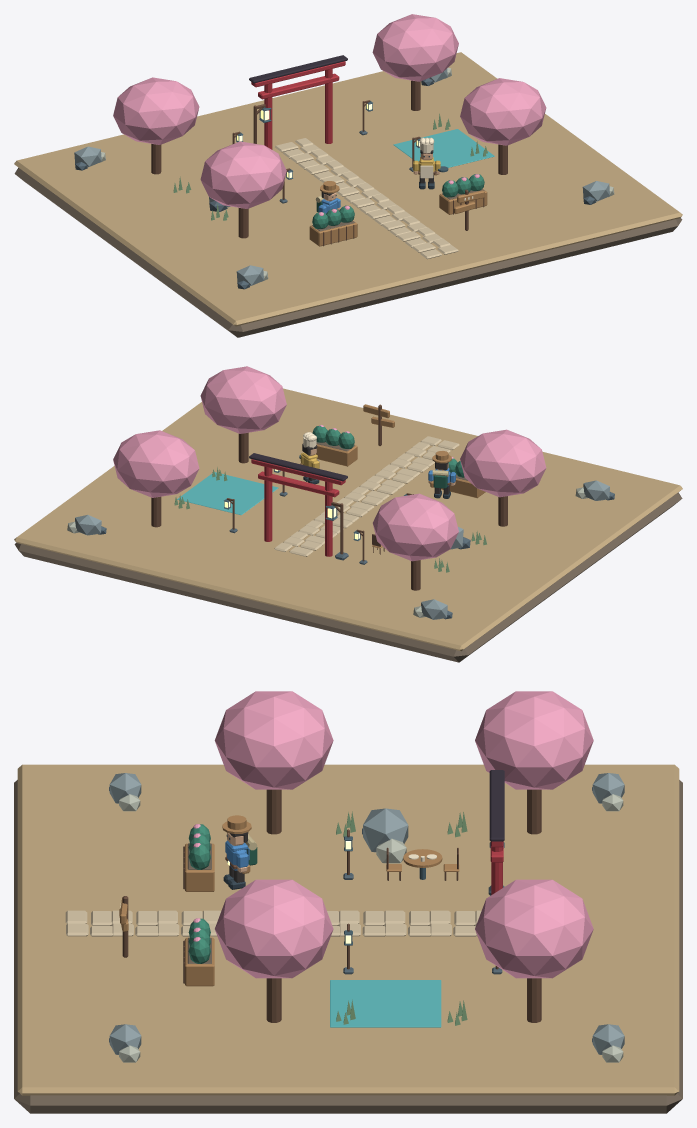
The model's file is world-zen.glb.
The picture shows the model from 3 angles, top to bottom: view 1: azimuth 30°, elevation 25°; view 2: azimuth 150°, elevation 25°; view 3: azimuth 270°, elevation 25°; orthographic projection. The views are drawn at different scales.
Parts seen in each view (by area): view 1: terrain-top, terrain-stratum, cherry-blossoms, cherry-blossoms.003, cherry-blossoms.002, cherry-blossoms.001, pond, planter-body.001, torii-cap.001, torii-beam.002, torii-post.003; view 2: terrain-top, terrain-stratum, cherry-blossoms.001, cherry-blossoms.003, cherry-blossoms, cherry-blossoms.002, pond, torii-cap.001, torii-beam.002, planter-body.002, torii-post.003, torii-post.002 (+4 smaller); view 3: terrain-top, terrain-stratum, cherry-blossoms.003, cherry-blossoms.002, cherry-blossoms, cherry-blossoms.001, pond, rock.003, torii-cap.001, planter-body.002, planter-body.001, rock.012 (+7 smaller).
Boxes of the visible parts, left/top/right/bottom form: terrain-top: left=14, top=52, right=682, bottom=326; terrain-stratum: left=14, top=167, right=682, bottom=337; cherry-blossoms: left=200, top=141, right=286, bottom=208; cherry-blossoms.003: left=372, top=14, right=458, bottom=81; cherry-blossoms.002: left=460, top=78, right=546, bottom=145; cherry-blossoms.001: left=113, top=77, right=199, bottom=144; pond: left=393, top=129, right=494, bottom=167; planter-body.001: left=309, top=220, right=357, bottom=246; torii-cap.001: left=249, top=55, right=347, bottom=83; torii-beam.002: left=258, top=73, right=339, bottom=99; torii-post.003: left=325, top=69, right=332, bottom=143; terrain-top: left=14, top=388, right=682, bottom=651; terrain-stratum: left=14, top=492, right=682, bottom=662; cherry-blossoms.001: left=372, top=493, right=458, bottom=561; cherry-blossoms.003: left=113, top=430, right=199, bottom=497; cherry-blossoms: left=460, top=429, right=546, bottom=497; cherry-blossoms.002: left=200, top=366, right=286, bottom=433; pond: left=177, top=472, right=278, bottom=515; torii-cap.001: left=249, top=453, right=347, bottom=481; torii-beam.002: left=258, top=471, right=339, bottom=497; planter-body.002: left=316, top=444, right=357, bottom=466; torii-post.003: left=264, top=466, right=272, bottom=541; torii-post.002: left=325, top=481, right=332, bottom=556; terrain-top: left=17, top=764, right=679, bottom=1095; terrain-stratum: left=14, top=780, right=682, bottom=1113; cherry-blossoms.003: left=475, top=879, right=593, bottom=978; cherry-blossoms.002: left=215, top=879, right=333, bottom=978; cherry-blossoms: left=214, top=691, right=333, bottom=789; cherry-blossoms.001: left=475, top=691, right=593, bottom=789; pond: left=330, top=980, right=441, bottom=1027; rock.003: left=363, top=808, right=408, bottom=852; torii-cap.001: left=489, top=770, right=504, bottom=841; planter-body.002: left=185, top=937, right=214, bottom=986; planter-body.001: left=185, top=843, right=214, bottom=891; rock.012: left=592, top=773, right=624, bottom=803.
Bounding box in the file's own units: 21 × 4.89 × 18.
